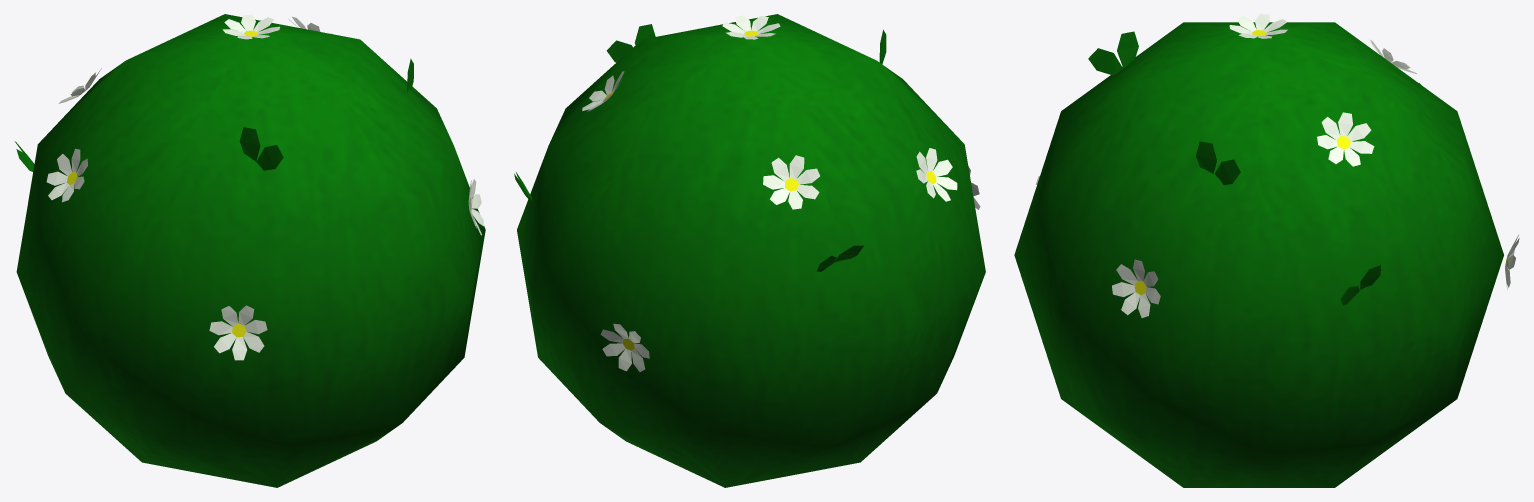
File: bush.fbx
3 renders of one model, left to right at view 1: azimuth 30°, elevation 25°; view 2: azimuth 150°, elevation 25°; view 3: azimuth 270°, elevation 25°, orthographic. The views are drawn at different scales.
Visible parts, largest first — view 1: bush; view 2: bush; view 3: bush.
Boxes of the visible parts, left/top/right/bottom form: bush: left=14, top=14, right=485, bottom=487; bush: left=514, top=14, right=985, bottom=487; bush: left=1014, top=14, right=1519, bottom=487.
Bounding box in the file's own units: 1.67 × 1.67 × 1.8.
